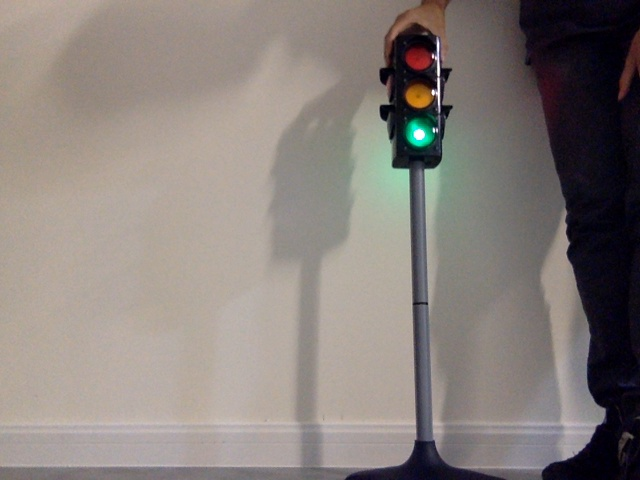green: (398, 45, 440, 153)
